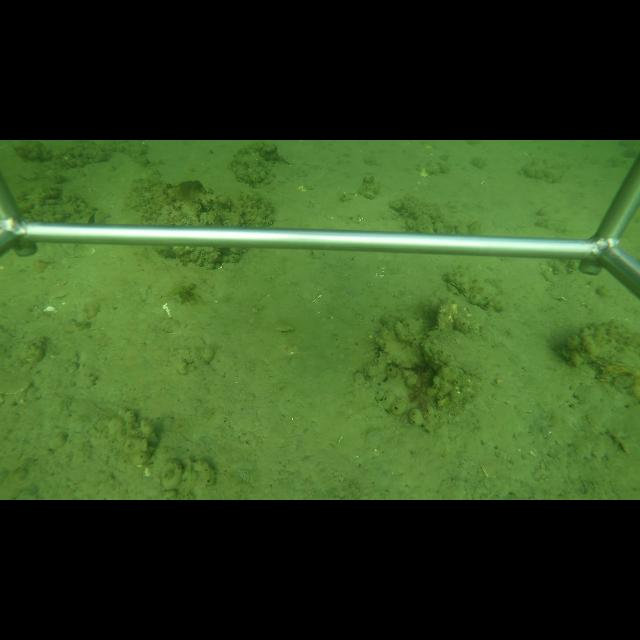Oyster-Closed: (421, 328, 490, 380), (435, 296, 458, 329)
